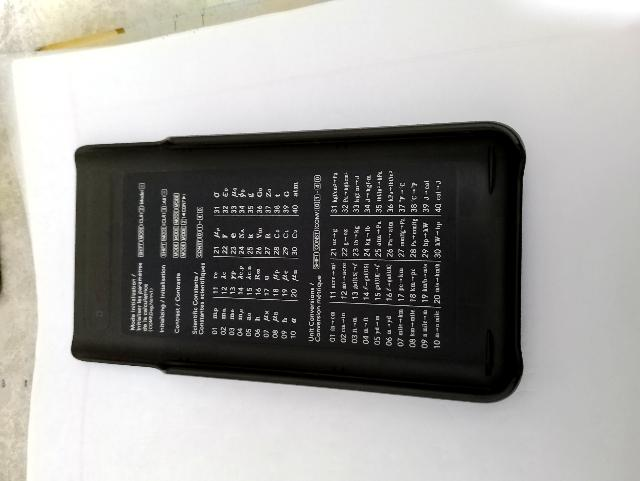hardplastic: (62, 107, 570, 406)
